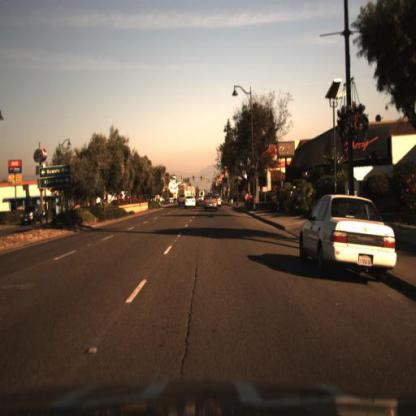car: (301, 195, 397, 278), (202, 194, 219, 215), (185, 194, 197, 211)
